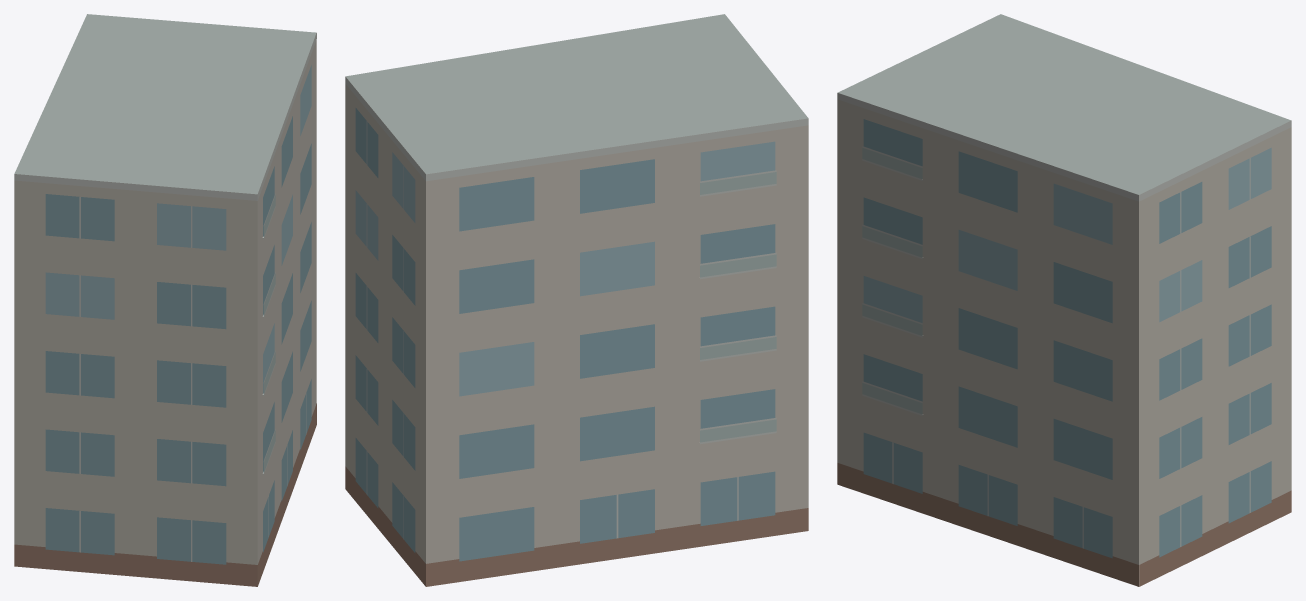
The model's file is survey-upis-32846780.glb.
3 views of the same model, side by side, from view 1: azimuth 30°, elevation 25°; view 2: azimuth 150°, elevation 25°; view 3: azimuth 270°, elevation 25° (orthographic). The views are drawn at different scales.
Parts seen in each view (by area): view 1: survey-upis-32846780.tmp; view 2: survey-upis-32846780.tmp; view 3: survey-upis-32846780.tmp.
Part boxes in pixels (x1,y1,x2,y2): survey-upis-32846780.tmp: [14, 14, 316, 586]; survey-upis-32846780.tmp: [345, 14, 808, 586]; survey-upis-32846780.tmp: [837, 14, 1291, 586].
Bounding box in the file's own units: 14.38 × 14.5 × 15.24.
